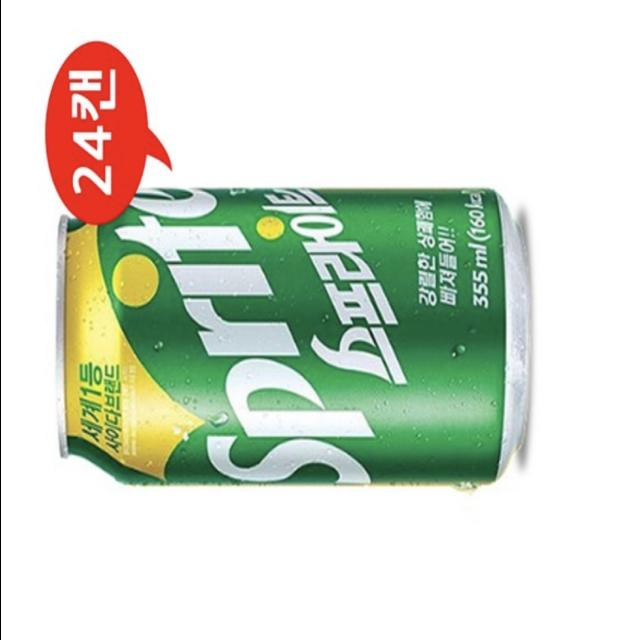can: (36, 177, 536, 495)
